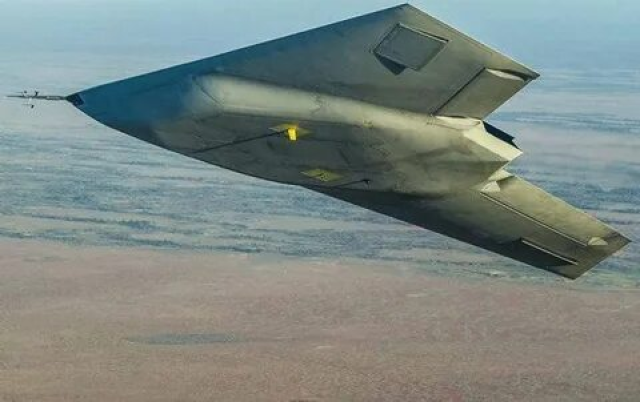military drone: (6, 3, 631, 279)
